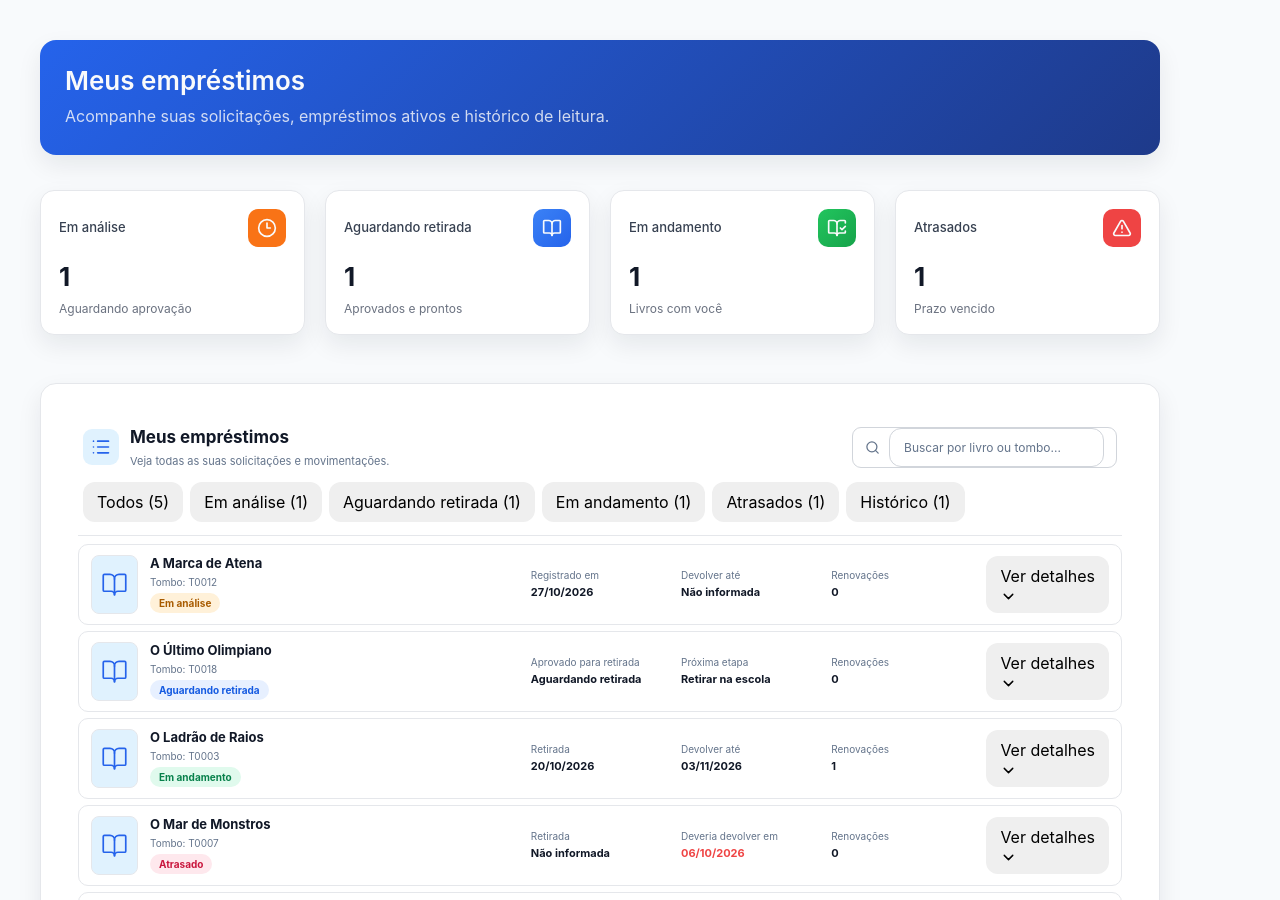
Test case: apresenta categorias sem misturar pendentes e aprovados
The width and height of the screenshot is (1280, 900).
Check: the text "A Marca de Atena" is shown, box [150,555,262,572]
Check: the text "O Último Olimpiano" is shown, box [150,642,272,659]
Click the button "Em análise (1)" at coordinates (256, 502), box [190,482,322,522]
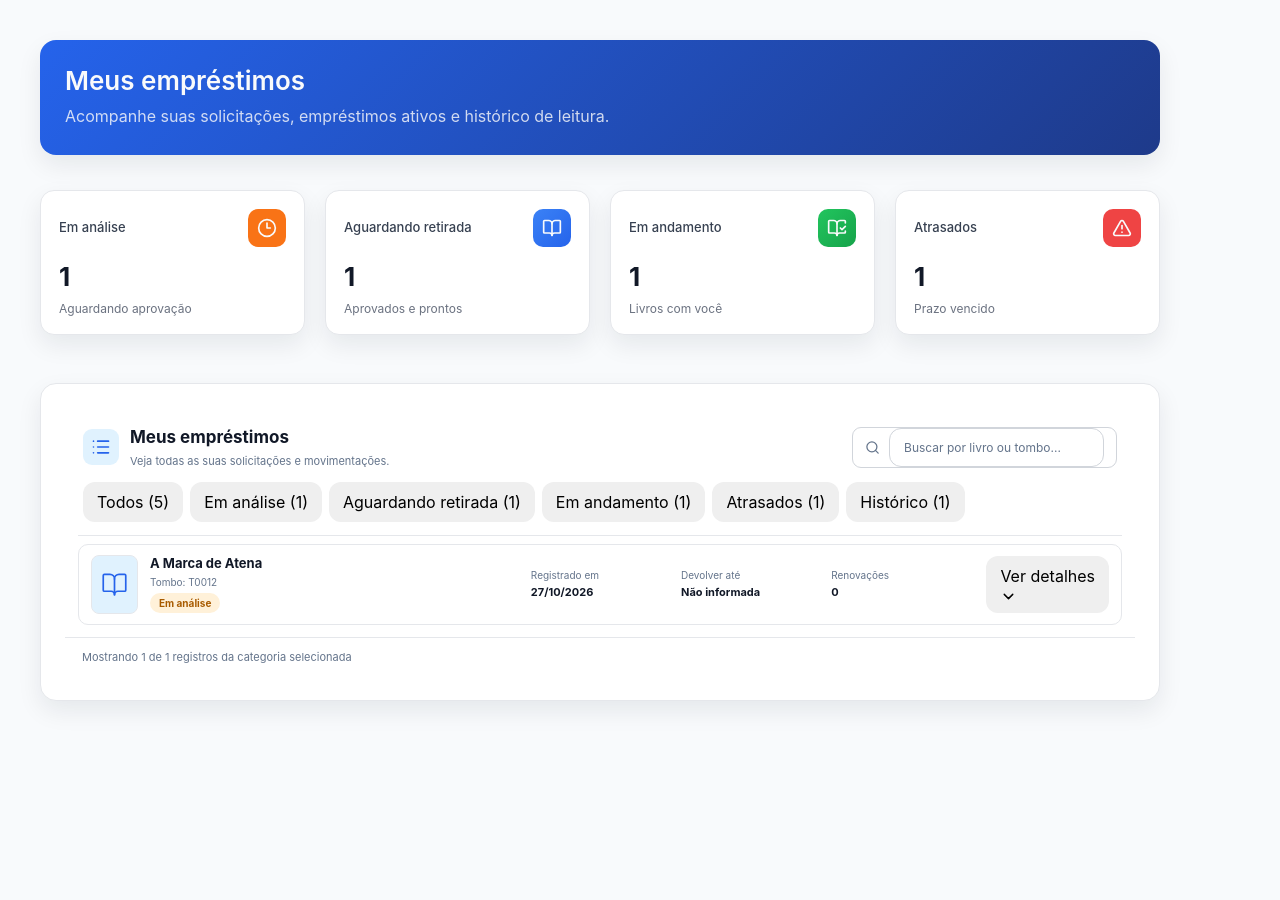
Check: the text "A Marca de Atena" is shown, box [150,555,262,572]
Check: the text "O Último Olimpiano" is gone
Click the button "Aguardando retirada (1)" at coordinates (432, 502), box [329,482,535,522]
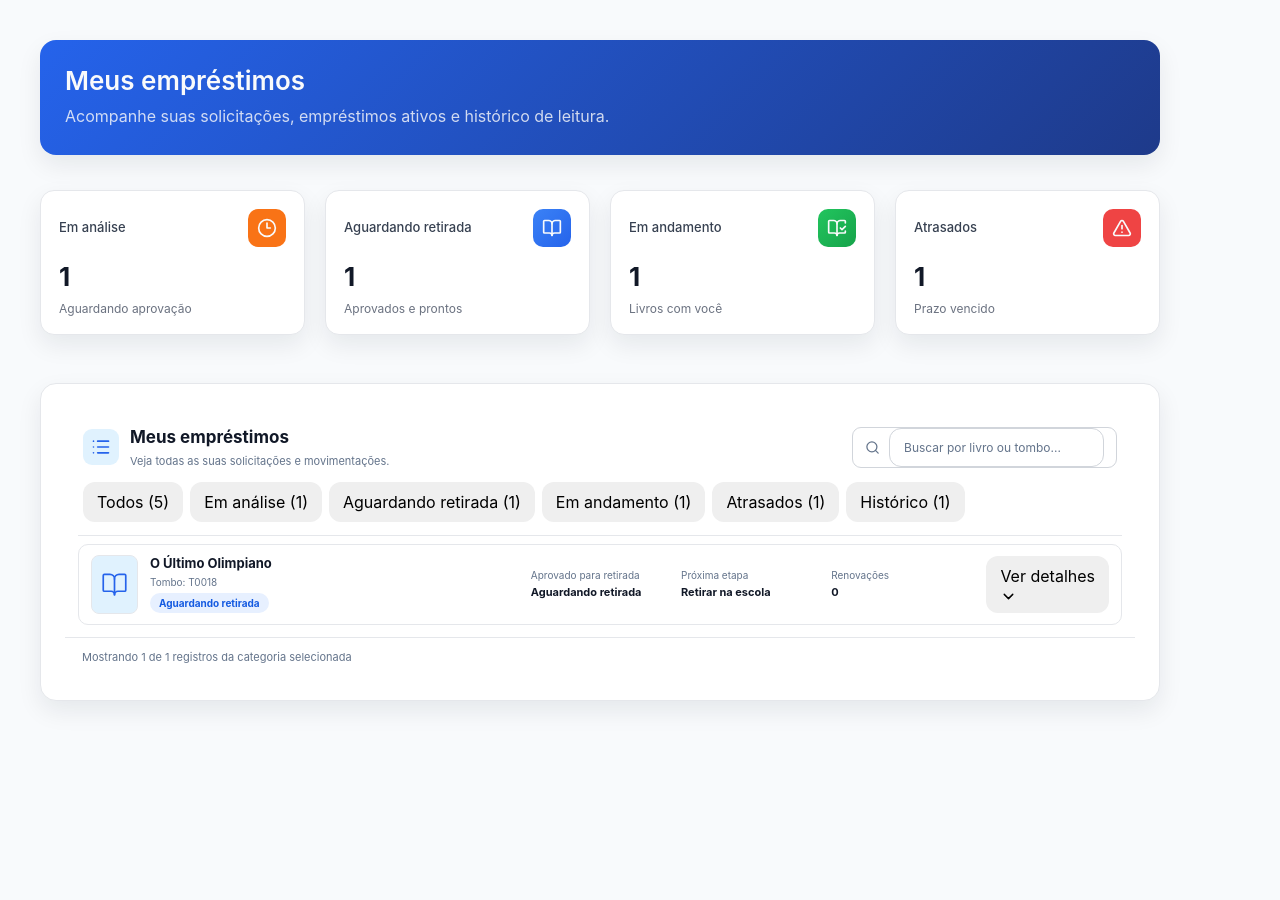
Check: the text "O Último Olimpiano" is shown, box [150,555,272,572]
